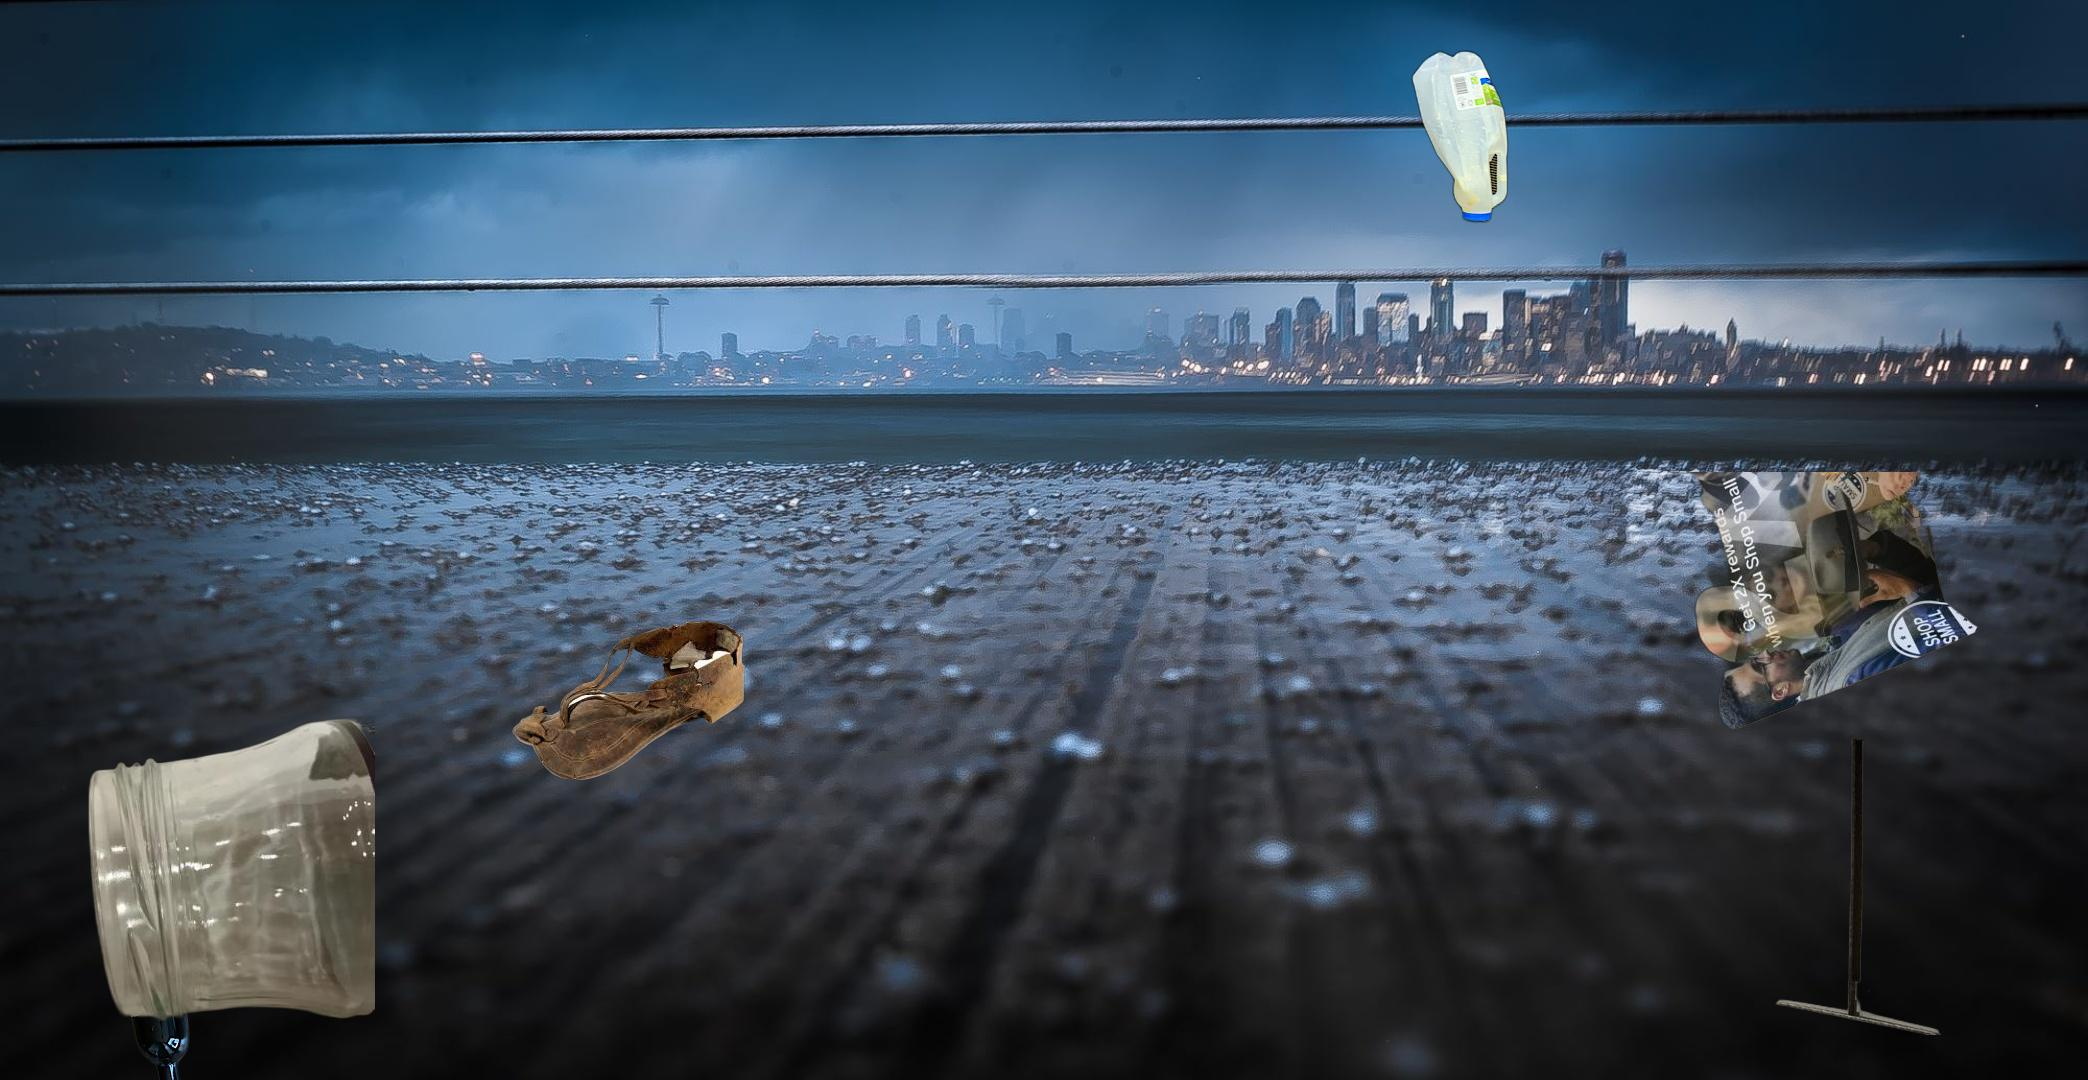glass: (83, 716, 375, 1026), (106, 872, 358, 1080)
paper: (1667, 473, 1983, 734)
plastic-bottles: (1408, 44, 1512, 229)
shoes: (510, 619, 747, 782)
trashbox-cardboard: (1768, 652, 1965, 1035)
